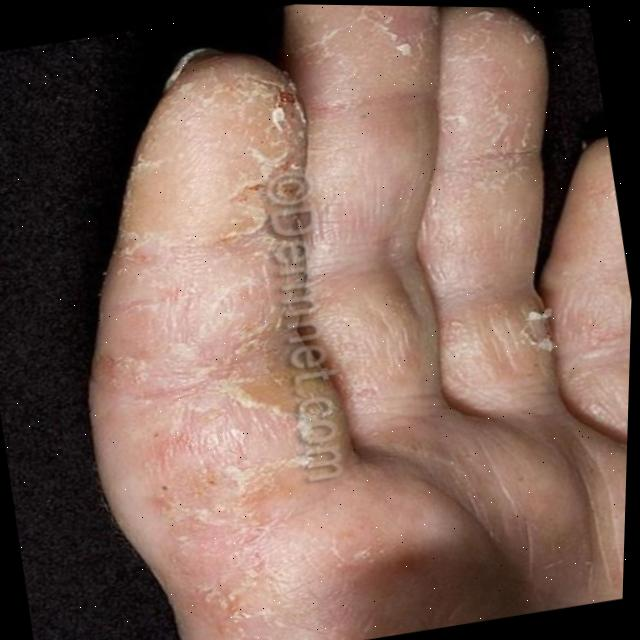Eczema: (84, 90, 367, 529)
